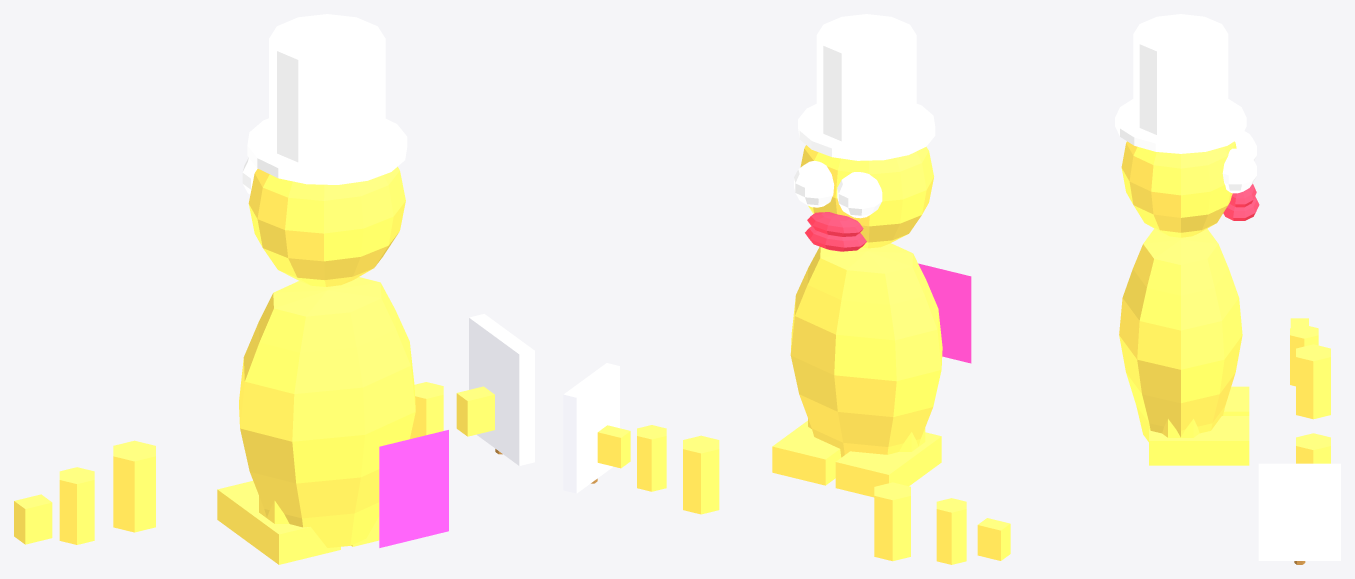
File: cook.glb
3 views of the same model, side by side, from view 1: azimuth 30°, elevation 25°; view 2: azimuth 150°, elevation 25°; view 3: azimuth 270°, elevation 25° (orthographic). The views are drawn at different scales.
Visible parts, largest first — view 1: Body, HatBody, Head, Apron, Cleaver_Blade, HatBrim, Foot_L, Arm_Upper_L, Arm_Lower_L, Hand_L, Hand_R, Arm_Lower_R; view 2: Body, HatBody, Head, Cleaver_Blade, Foot_L, HatBrim, Apron, Foot_R, Arm_Upper_R, Arm_Upper_L, Arm_Lower_L, Arm_Lower_R (+6 smaller); view 3: Body, HatBody, Cleaver_Blade, Head, Foot_R, HatBrim, Arm_Upper_L, EyeWhite_R, Arm_Upper_R, Arm_Lower_L, Foot_L, Lip_Lower (+2 smaller).
Part boxes in pixels (x1=…): Body: x1=239, y1=277, x2=415, y2=547; HatBody: x1=269, y1=14, x2=385, y2=165; Head: x1=248, y1=166, x2=405, y2=286; Apron: x1=379, y1=430, x2=448, y2=547; Cleaver_Blade: x1=469, y1=314, x2=534, y2=465; HatBrim: x1=247, y1=118, x2=407, y2=184; Foot_L: x1=217, y1=481, x2=340, y2=564; Arm_Upper_L: x1=113, y1=440, x2=155, y2=532; Arm_Lower_L: x1=59, y1=467, x2=94, y2=544; Hand_L: x1=14, y1=494, x2=52, y2=544; Hand_R: x1=456, y1=386, x2=494, y2=436; Arm_Lower_R: x1=410, y1=382, x2=443, y2=438; Body: x1=790, y1=243, x2=942, y2=457; HatBody: x1=816, y1=14, x2=916, y2=144; Head: x1=800, y1=145, x2=933, y2=248; Cleaver_Blade: x1=563, y1=363, x2=619, y2=493; Foot_L: x1=835, y1=432, x2=941, y2=497; HatBrim: x1=798, y1=104, x2=935, y2=160; Apron: x1=918, y1=263, x2=971, y2=363; Foot_R: x1=772, y1=420, x2=841, y2=485; Arm_Upper_R: x1=683, y1=435, x2=719, y2=514; Arm_Upper_L: x1=874, y1=482, x2=910, y2=561; Arm_Lower_L: x1=936, y1=498, x2=966, y2=564; Arm_Lower_R: x1=637, y1=425, x2=666, y2=491; Body: x1=1119, y1=228, x2=1242, y2=441; HatBody: x1=1133, y1=14, x2=1228, y2=137; Cleaver_Blade: x1=1258, y1=463, x2=1340, y2=560; Head: x1=1121, y1=141, x2=1236, y2=237; Foot_R: x1=1149, y1=416, x2=1249, y2=465; HatBrim: x1=1115, y1=99, x2=1246, y2=153; Arm_Upper_L: x1=1296, y1=344, x2=1330, y2=419; EyeWhite_R: x1=1222, y1=148, x2=1256, y2=193; Arm_Upper_R: x1=1296, y1=433, x2=1330, y2=463; Arm_Lower_L: x1=1290, y1=325, x2=1318, y2=386; Foot_L: x1=1223, y1=386, x2=1249, y2=415; Lip_Lower: x1=1223, y1=196, x2=1259, y2=220.
Size of the model in its own units: 5.05 by 5.19 by 3.3.
